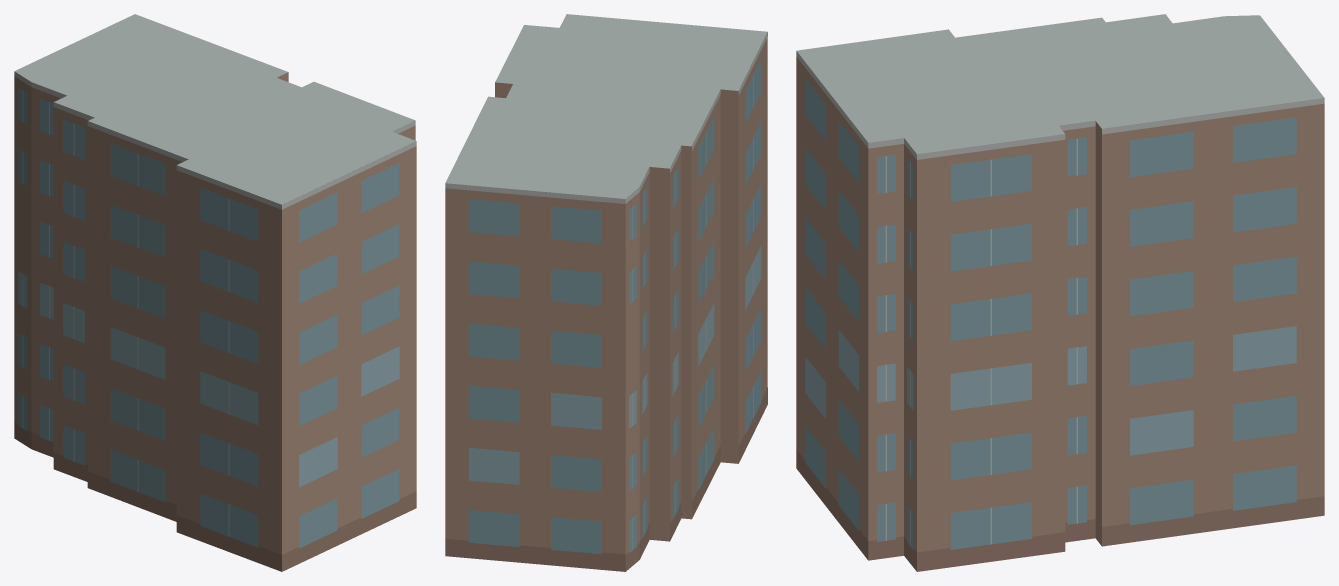
File: survey-upis-32728422.glb
3 renders of one model, left to right at view 1: azimuth 30°, elevation 25°; view 2: azimuth 150°, elevation 25°; view 3: azimuth 270°, elevation 25°, orthographic. The views are drawn at different scales.
Parts seen in each view (by area): view 1: survey-upis-32728422.tmp; view 2: survey-upis-32728422.tmp; view 3: survey-upis-32728422.tmp.
Boxes of the visible parts, x1=… form: survey-upis-32728422.tmp: x1=14, y1=14, x2=416, y2=571; survey-upis-32728422.tmp: x1=445, y1=14, x2=767, y2=571; survey-upis-32728422.tmp: x1=796, y1=14, x2=1324, y2=571.
Bounding box in the file's own units: 12.98 × 18 × 20.65.
